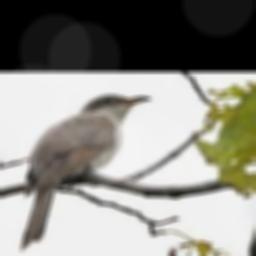Cuckoo: (21, 94, 152, 250)
